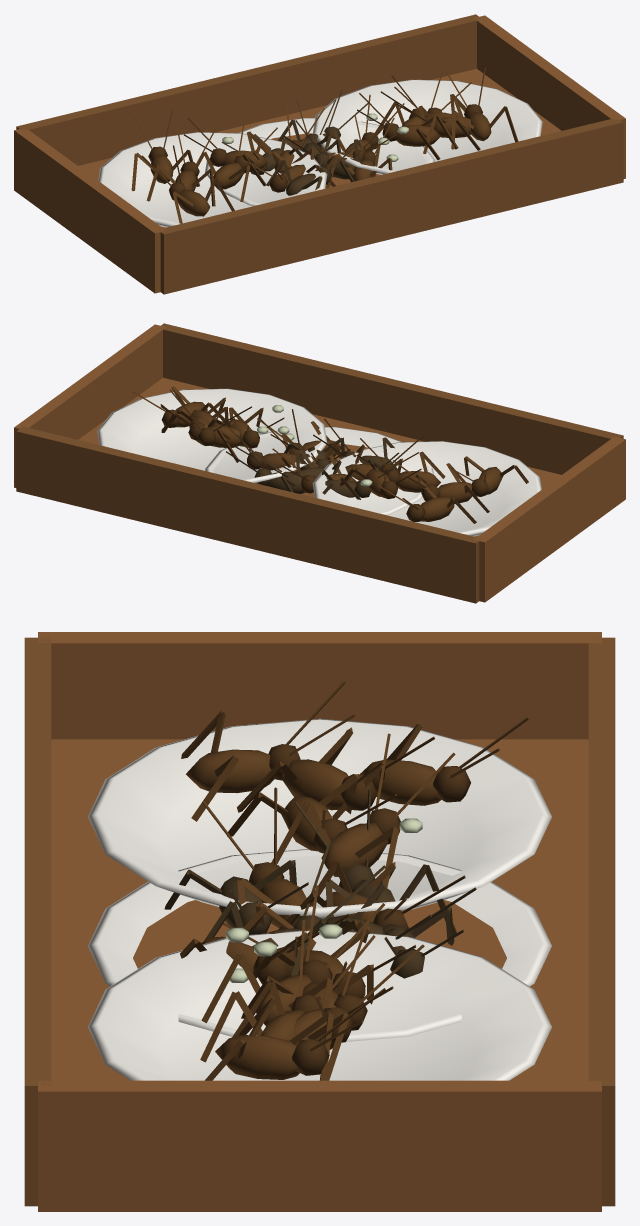
The model's file is Insect_Fried.fbx.
3 views of the same model, one above another, from view 1: azimuth 30°, elevation 25°; view 2: azimuth 150°, elevation 25°; view 3: azimuth 270°, elevation 25° (orthographic). The views are drawn at different scales.
Visible parts, largest first — view 1: Insect_Fried__Stack, Insect_Fried, Insect_Fried__Rotten; view 2: Insect_Fried__Stack, Insect_Fried, Insect_Fried__Rotten; view 3: Insect_Fried__Stack, Insect_Fried, Insect_Fried__Rotten.
Boxes of the visible parts, box(x1,y1,x2,y2) form: Insect_Fried__Stack: box(14, 14, 625, 294); Insect_Fried: box(205, 94, 434, 206); Insect_Fried__Rotten: box(221, 89, 408, 195); Insect_Fried__Stack: box(14, 323, 625, 603); Insect_Fried: box(205, 409, 433, 515); Insect_Fried__Rotten: box(226, 405, 399, 497); Insect_Fried__Stack: box(24, 632, 615, 1211); Insect_Fried: box(88, 787, 551, 1041); Insect_Fried__Rotten: box(164, 789, 476, 982).
Size of the model in its own units: 0.328 by 0.0444 by 0.178.
